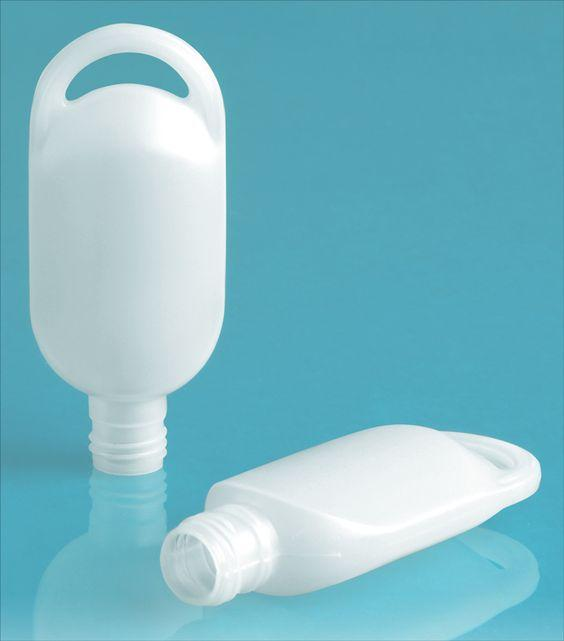HDPE: (27, 23, 228, 476), (159, 423, 542, 605)
